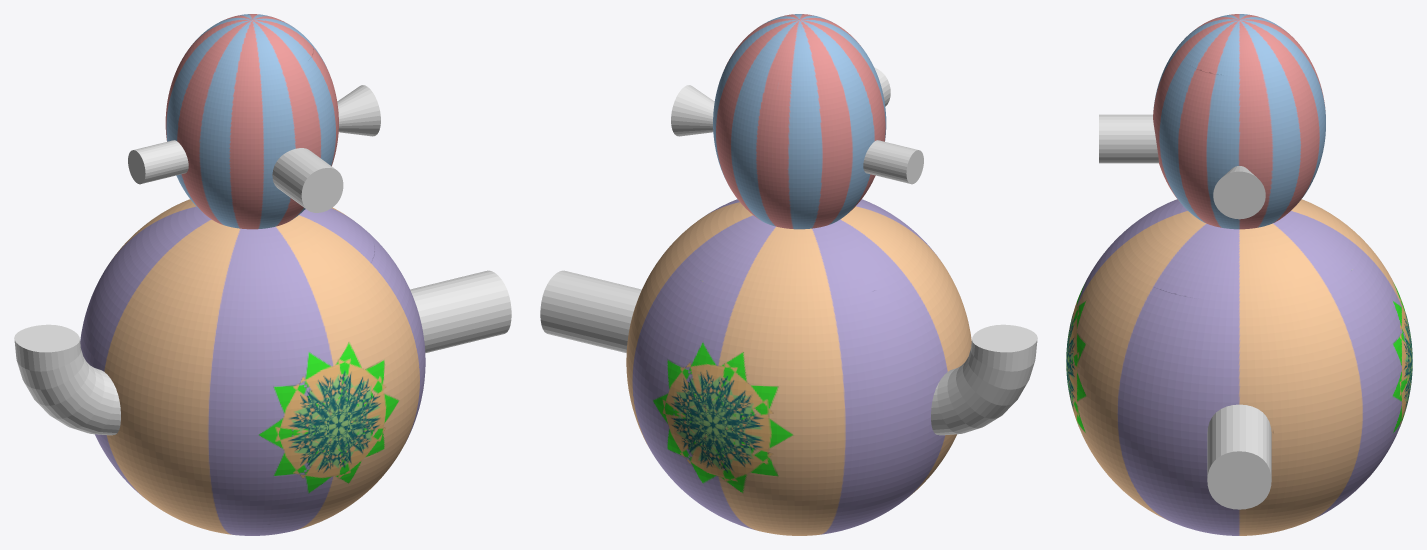
The model's file is BouncyStim1.fbx.
The picture shows the model from 3 angles, left to right: view 1: azimuth 30°, elevation 25°; view 2: azimuth 150°, elevation 25°; view 3: azimuth 270°, elevation 25°; orthographic projection.
Visible parts, largest first — view 1: Body, Arm.001, Arm, Beak, Ear, Ear.001; view 2: Body, Arm.001, Arm, Ear, Ear.001; view 3: Body, Arm, Beak, Ear.001.
Boxes of the visible parts, bbox=[...] form: Body: bbox=[80, 14, 425, 535]; Arm.001: bbox=[14, 324, 120, 435]; Arm: bbox=[410, 270, 511, 352]; Beak: bbox=[272, 148, 343, 212]; Ear: bbox=[128, 140, 188, 184]; Ear.001: bbox=[337, 85, 380, 136]; Body: bbox=[626, 14, 971, 535]; Arm.001: bbox=[931, 324, 1037, 435]; Arm: bbox=[540, 270, 641, 352]; Ear: bbox=[863, 140, 923, 184]; Ear.001: bbox=[671, 85, 714, 136]; Body: bbox=[1066, 14, 1412, 535]; Arm: bbox=[1207, 404, 1271, 509]; Beak: bbox=[1099, 114, 1158, 163]; Ear.001: bbox=[1213, 166, 1265, 219].
Bounding box in the file's own units: 78.31 × 78.65 × 49.36.
